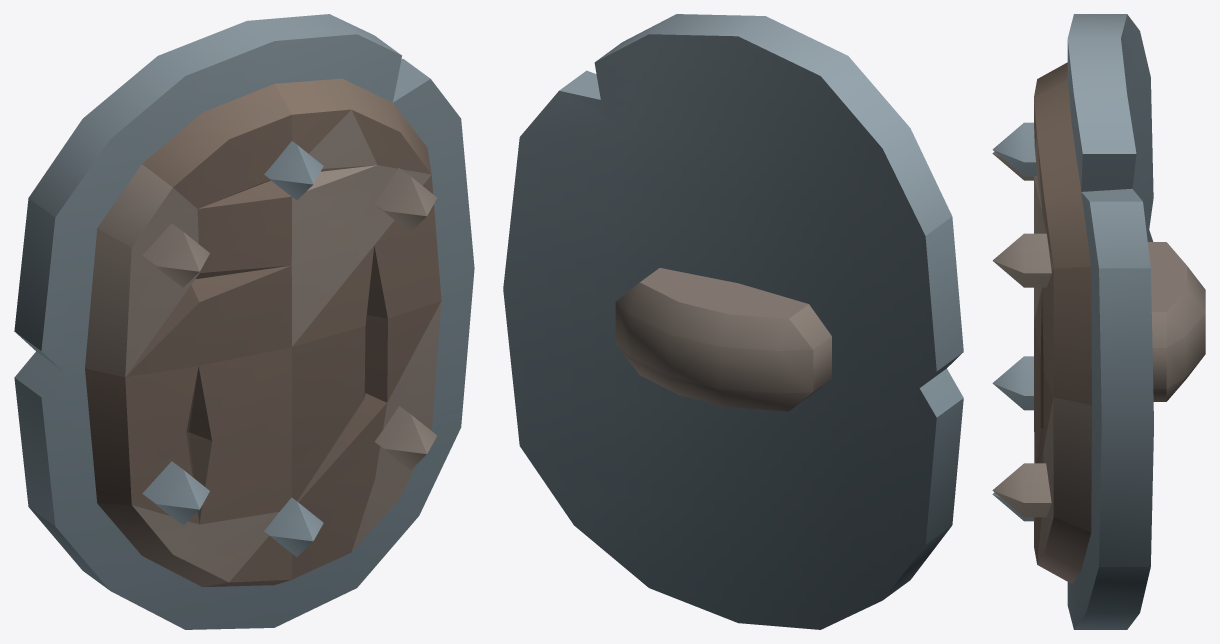
Rendered from Skeleton_Shield_Large_B.fbx.
3 views of the same model, side by side, from view 1: azimuth 30°, elevation 25°; view 2: azimuth 150°, elevation 25°; view 3: azimuth 270°, elevation 25° (orthographic). The views are drawn at different scales.
Parts seen in each view (by area): view 1: Skeleton_Shield_Large_B; view 2: Skeleton_Shield_Large_B; view 3: Skeleton_Shield_Large_B.
Part boxes in pixels (x1,y1,x2,y2): Skeleton_Shield_Large_B: (14, 14, 474, 629); Skeleton_Shield_Large_B: (503, 14, 963, 629); Skeleton_Shield_Large_B: (992, 14, 1205, 629).
Bounding box in the file's own units: 0.8771 × 1.13 × 0.387.
